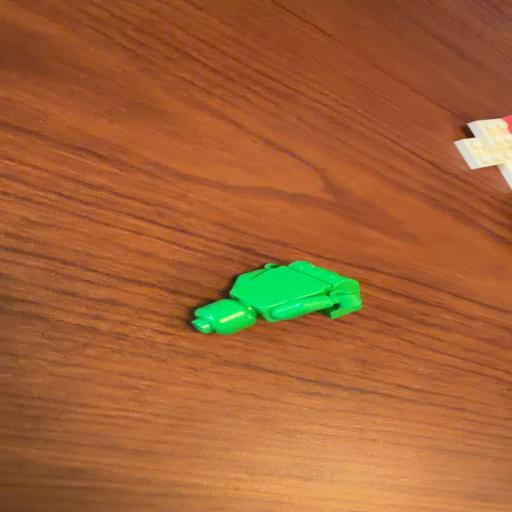UnoQ-minifig-detector: (192, 262, 360, 334)
